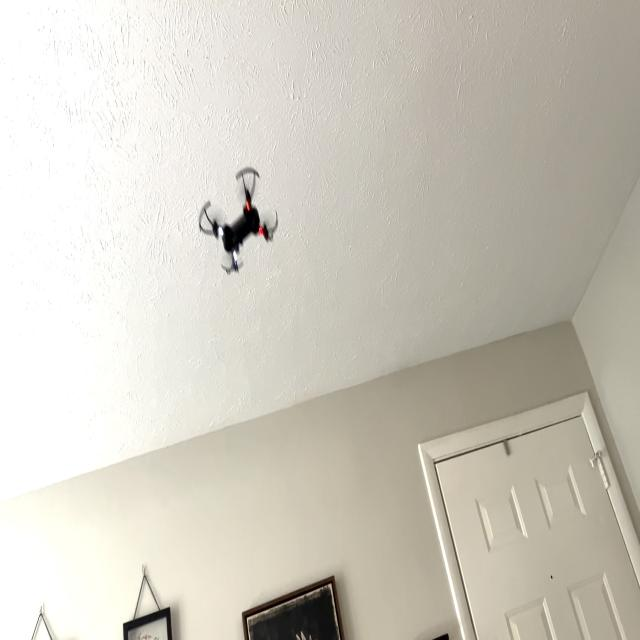drone: (187, 147, 287, 282)
